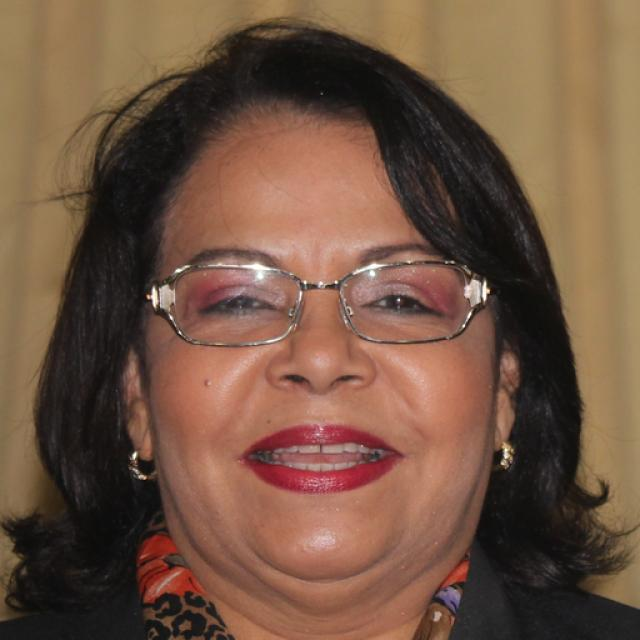Acne: (202, 373, 214, 390)
